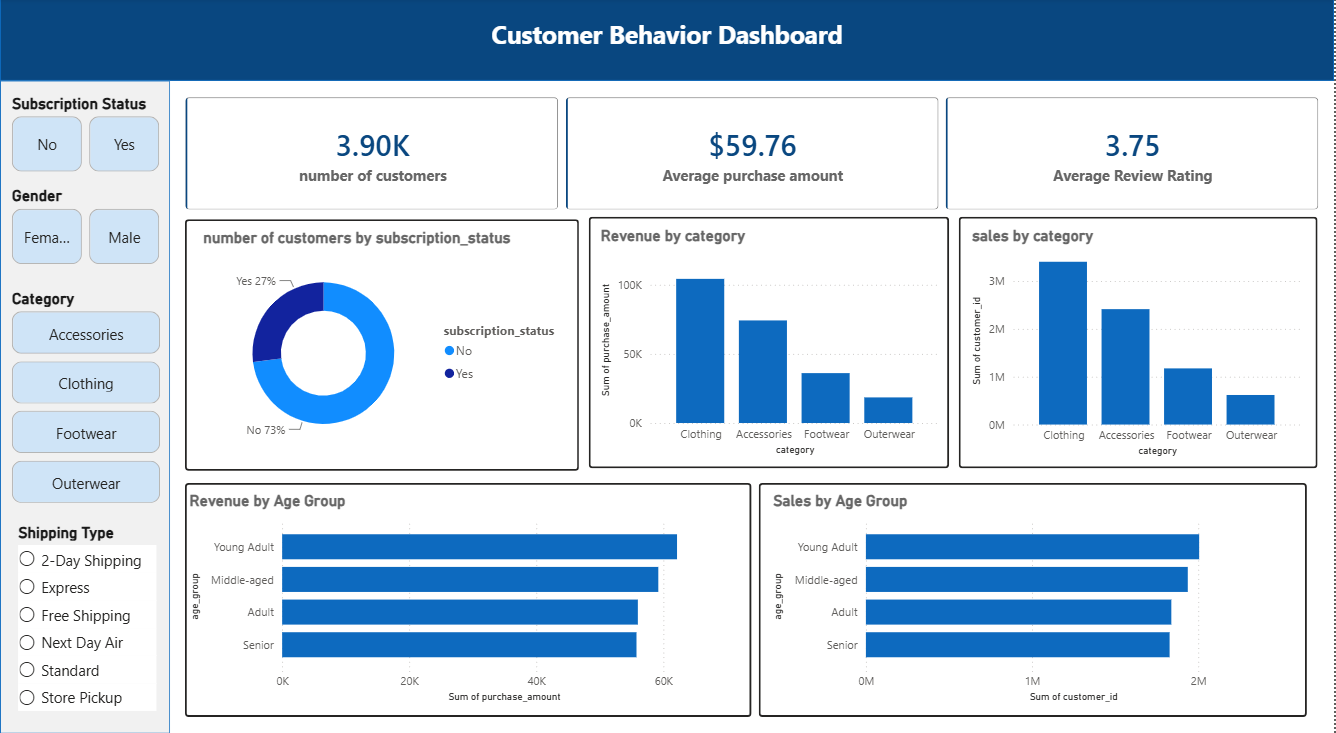

This screenshot's page, from the dashboard's own definition file:
{"tool":"powerbi","page":{"name":"Page 1","canvas":[1450,800],"ordinal":0},"visuals":[{"type":"cardVisual","fields":{"Data":["public customer.number of customers","public customer.Average purchase amount","public customer.Average Review Rating"]},"box":[185,91.7,1265,156.7],"z":0},{"type":"shape","box":[0,0,1450,90],"z":1000},{"type":"textbox","box":[0,16.7,1450,58.3],"z":2000},{"type":"donutChart","fields":{"Category":["public customer.subscription_status"],"Y":["public customer.number of customers"]},"box":[216.7,250,398.3,253.3],"z":3000},{"type":"shape","box":[201.7,240,428.3,273.3],"z":4000},{"type":"shape","box":[640,238.3,391.7,273.3],"z":5000},{"type":"columnChart","title":"Revenue by category","fields":{"Y":["Sum(public customer.purchase_amount)"],"Category":["public customer.category"]},"box":[648.3,248.3,378.3,253.3],"z":6000},{"type":"shape","box":[1041.7,238.3,390,273.3],"z":7000},{"type":"columnChart","title":"sales by category","fields":{"Category":["public customer.category"],"Y":["Sum(public customer.customer_id)"]},"box":[1051.7,248.3,368.3,255],"z":8000},{"type":"shape","box":[0,90,185,710],"z":9000},{"type":"advancedSlicerVisual","title":"Subscription Status","fields":{"Values":["public customer.subscription_status"]},"box":[8.3,105,171.7,90],"z":10000},{"type":"advancedSlicerVisual","title":"Gender","fields":{"Values":["public customer.gender"]},"box":[8.3,205,171.7,90],"z":11000},{"type":"advancedSlicerVisual","title":"Category","fields":{"Values":["public customer.category"]},"box":[8.3,316.7,171.7,238.3],"z":12000},{"type":"listSlicer","title":"Shipping Type","fields":{"Values":["public customer.shipping_type"]},"box":[15,570,160,230],"z":13000},{"type":"barChart","title":"Revenue by Age Group","fields":{"Category":["public customer.age_group"],"Y":["Sum(public customer.purchase_amount)"]},"box":[201.4,537.1,604.3,234.3],"z":14000},{"type":"shape","box":[201.4,527.1,615.7,254.3],"z":15000},{"type":"shape","box":[824.3,527.1,595.7,254.3],"z":16000},{"type":"barChart","title":"Sales by Age Group","fields":{"Category":["public customer.age_group"],"Y":["Sum(public customer.customer_id)"]},"box":[835.7,537.1,571.4,234.3],"z":17000}]}

Visuals, with their boxes in screenshot pixels (x1, y1, x2, y2), scaled from the page's 1450x800 canvas onto the 1336x733 screenshot:
cardVisual - public customer.number of customers x public customer.Average purchase amount: 170,84,1335,228
shape: 0,0,1335,82
textbox: 0,15,1335,69
donutChart - public customer.subscription_status x public customer.number of customers: 200,229,567,461
shape: 186,220,580,470
shape: 590,218,951,469
"Revenue by category" columnChart: 597,228,946,460
shape: 960,218,1319,469
"sales by category" columnChart: 969,228,1308,461
shape: 0,82,170,732
"Subscription Status" advancedSlicerVisual: 8,96,166,179
"Gender" advancedSlicerVisual: 8,188,166,270
"Category" advancedSlicerVisual: 8,290,166,509
"Shipping Type" listSlicer: 14,522,161,732
"Revenue by Age Group" barChart: 186,492,742,707
shape: 186,483,753,716
shape: 759,483,1308,716
"Sales by Age Group" barChart: 770,492,1296,707
